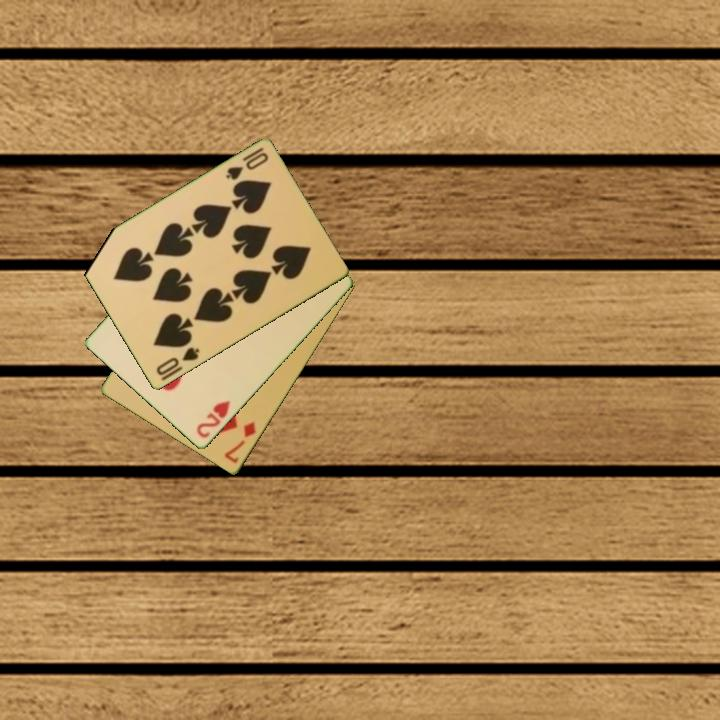10s: (222, 144, 271, 184), (152, 344, 202, 379)
2h: (193, 397, 233, 441)
7d: (221, 418, 259, 467)
